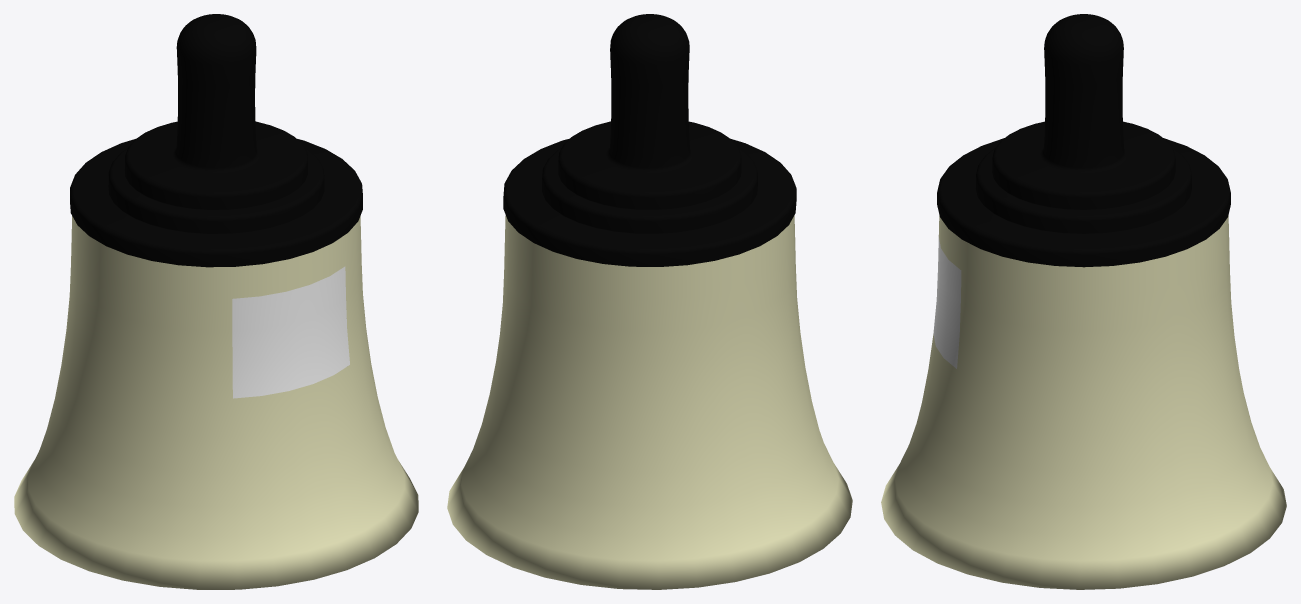
The model's file is Dummy.glb.
3 views of the same model, side by side, from view 1: azimuth 30°, elevation 25°; view 2: azimuth 150°, elevation 25°; view 3: azimuth 270°, elevation 25° (orthographic).
Parts seen in each view (by area): view 1: Dummy; view 2: Dummy; view 3: Dummy.
Boxes of the visible parts, x1,y1,x2,y2 form: Dummy: (14,14,418,589); Dummy: (447,14,852,589); Dummy: (881,14,1286,589).
Size of the model in its own units: 1.23 by 1.62 by 1.23.
